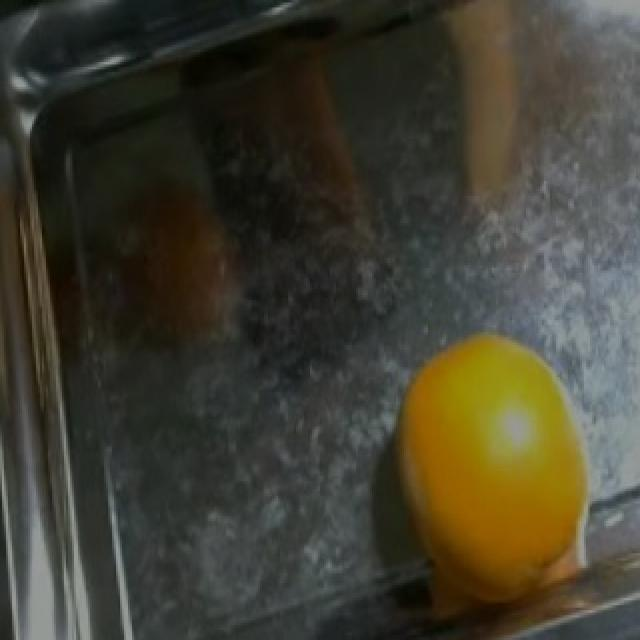Fruit: (364, 310, 614, 640)
